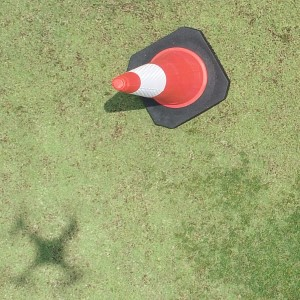traffic cone: (112, 26, 229, 129)
